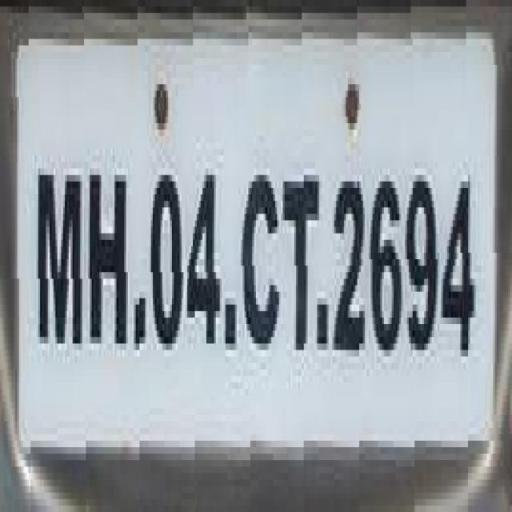number plate: (16, 13, 512, 460)
